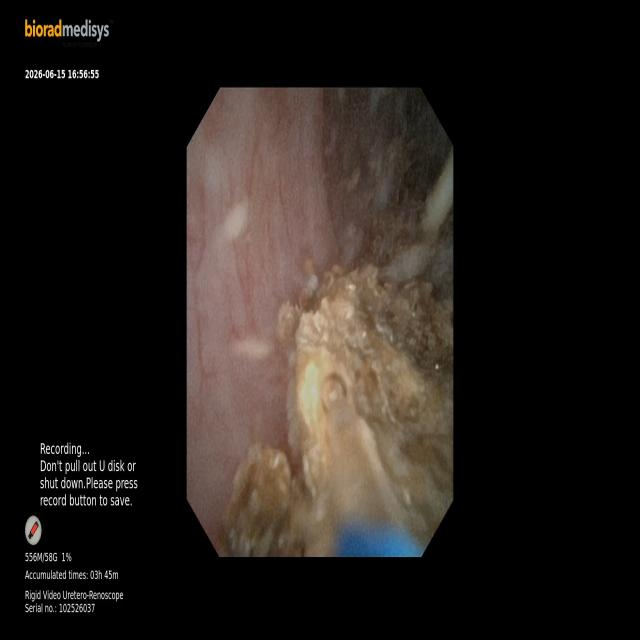laser-fibre: (328, 396, 399, 523)
stone-new: (225, 264, 453, 556)
